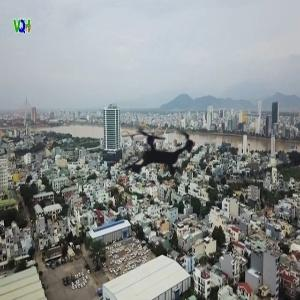drone: (101, 94, 219, 212)
